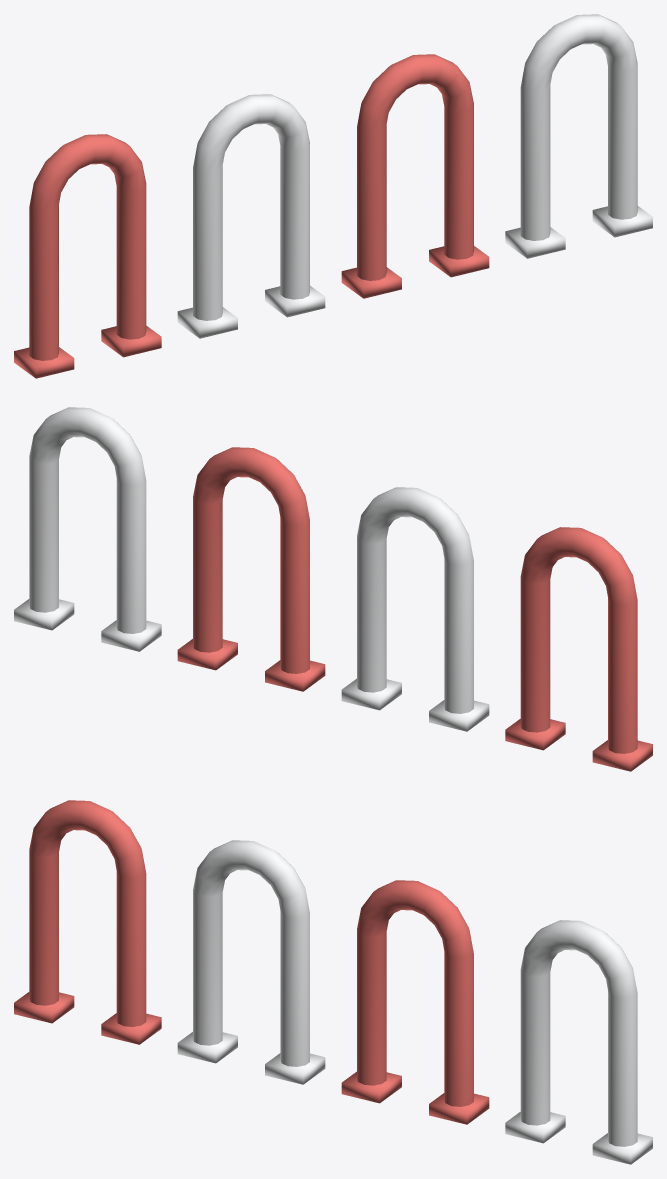
The model's file is track_guardrail.glb.
The picture shows the model from 3 angles, top to bottom: view 1: azimuth 30°, elevation 25°; view 2: azimuth 150°, elevation 25°; view 3: azimuth 330°, elevation 25°; orthographic projection.
Parts seen in each view (by area): view 1: UArch_3, UArch_0, UArch_2, UArch_1; view 2: UArch_3, UArch_0, UArch_2, UArch_1; view 3: UArch_0, UArch_3, UArch_1, UArch_2.
Part boxes in pixels (<box>): UArch_3: <box>505,14,652,258</box>; UArch_0: <box>14,134,161,378</box>; UArch_2: <box>341,54,489,298</box>; UArch_1: <box>177,94,325,338</box>; UArch_3: <box>14,407,161,651</box>; UArch_0: <box>505,527,652,771</box>; UArch_2: <box>177,447,325,691</box>; UArch_1: <box>341,487,489,731</box>; UArch_0: <box>14,800,161,1044</box>; UArch_3: <box>505,920,652,1164</box>; UArch_1: <box>177,840,325,1084</box>; UArch_2: <box>341,880,489,1124</box>.
Size of the model in its own units: 2.26 by 0.7657 by 0.14.
